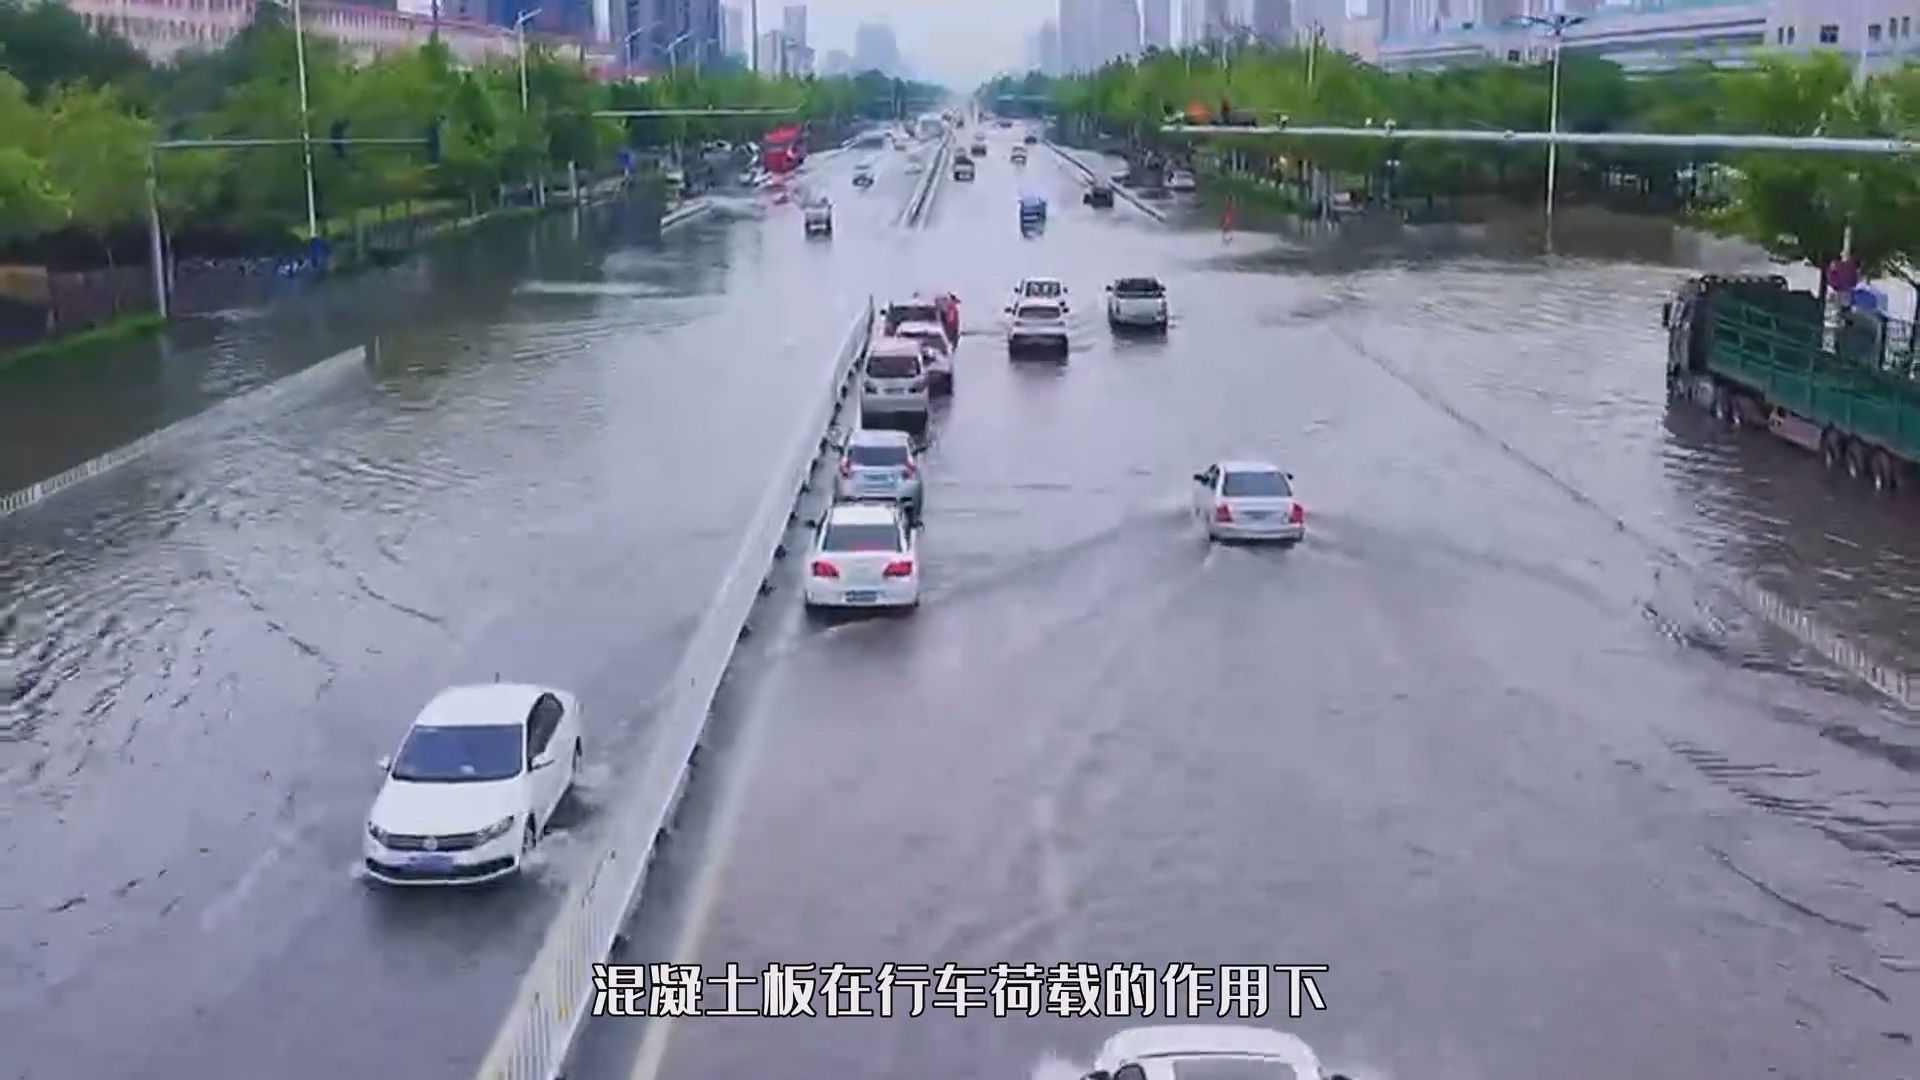puddle: (1, 315, 1920, 1080)
